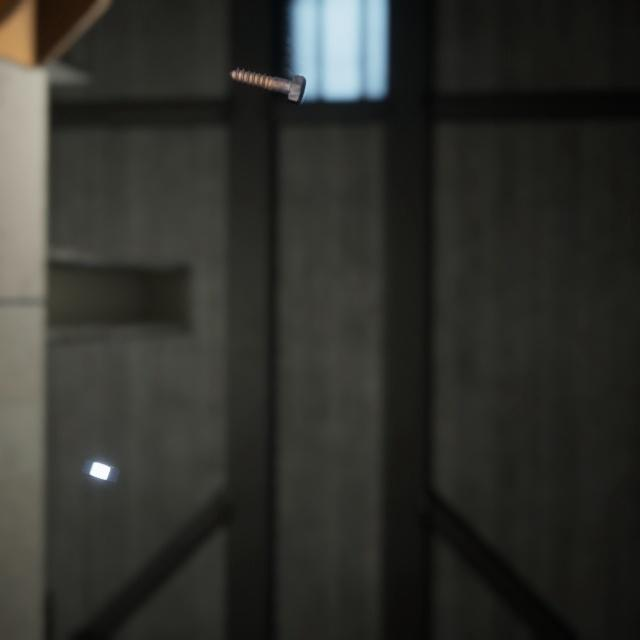bolt: (224, 51, 310, 98)
nut: (77, 434, 124, 466)
